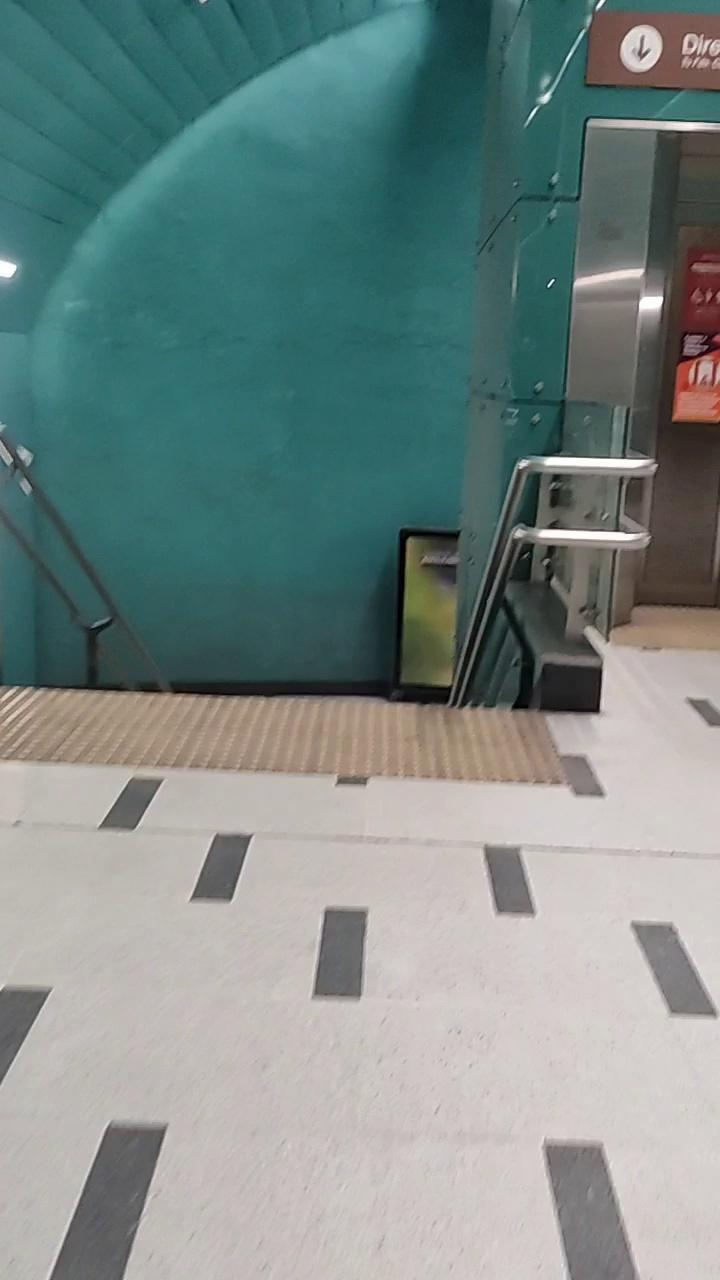down arrow: (620, 23, 662, 74)
